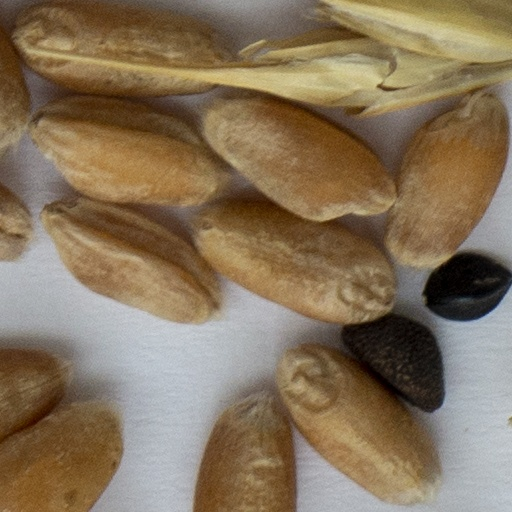Convolvulus-poly: (341, 316, 443, 409)
Fallopia-Convolvulus-poly: (424, 252, 511, 320)
